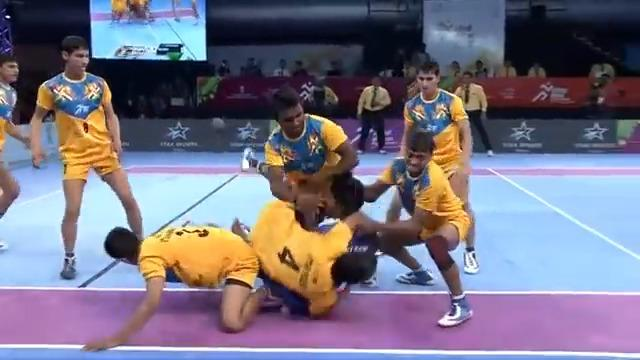Player: (324, 129, 474, 327), (28, 34, 144, 279), (80, 220, 261, 352), (386, 60, 480, 276), (260, 86, 359, 230), (0, 52, 32, 250)
Raider: (232, 149, 377, 319)
referee: (452, 70, 494, 157), (355, 75, 392, 154)
